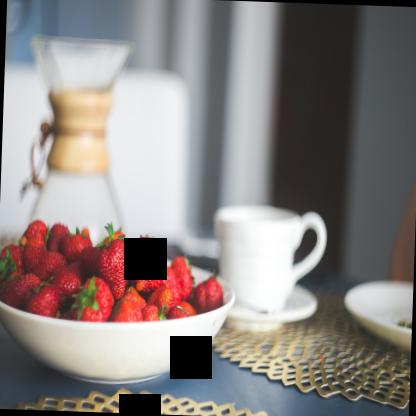strawberry: (128, 237, 166, 292), (98, 239, 131, 298), (24, 282, 61, 320), (2, 271, 38, 307)
